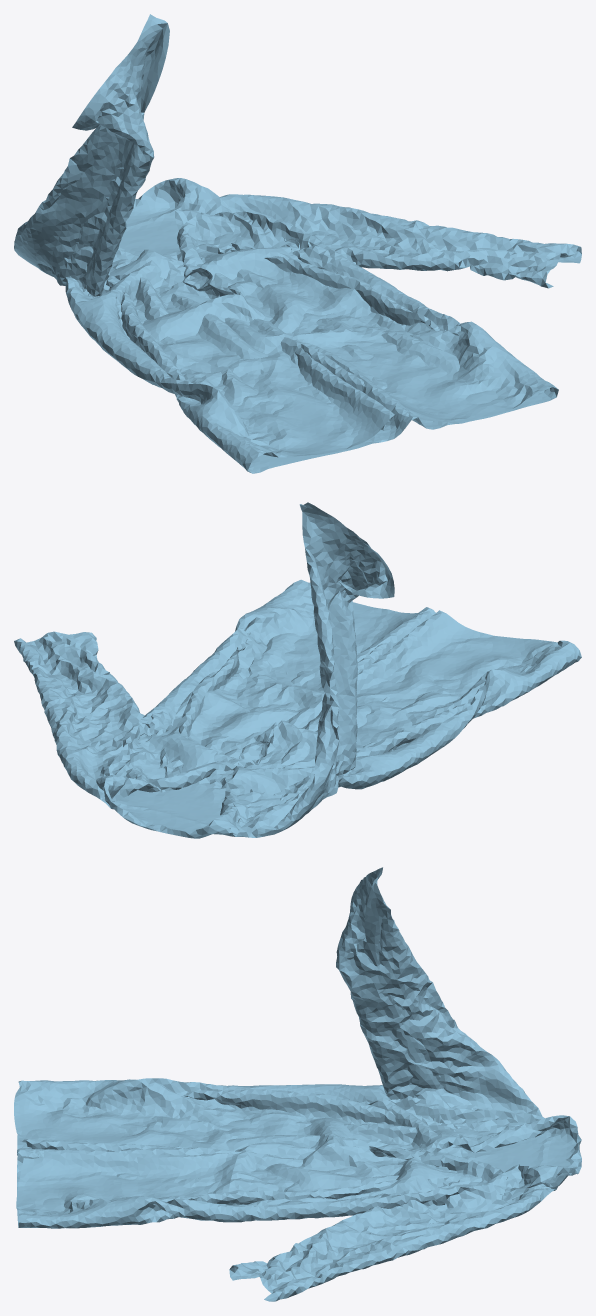
Rendered from frame_12.glb.
3 views of the same model, one above another, from view 1: azimuth 30°, elevation 25°; view 2: azimuth 150°, elevation 25°; view 3: azimuth 270°, elevation 25° (orthographic). The views are drawn at different scales.
Visible parts, largest first — view 1: frame_12.obj; view 2: frame_12.obj; view 3: frame_12.obj.
Boxes of the visible parts, x1,y1,x2,y2 form: frame_12.obj: (14, 14, 581, 473); frame_12.obj: (14, 502, 581, 838); frame_12.obj: (14, 867, 581, 1301).
Bounding box in the file's own units: 1.49 × 0.8826 × 1.68.
